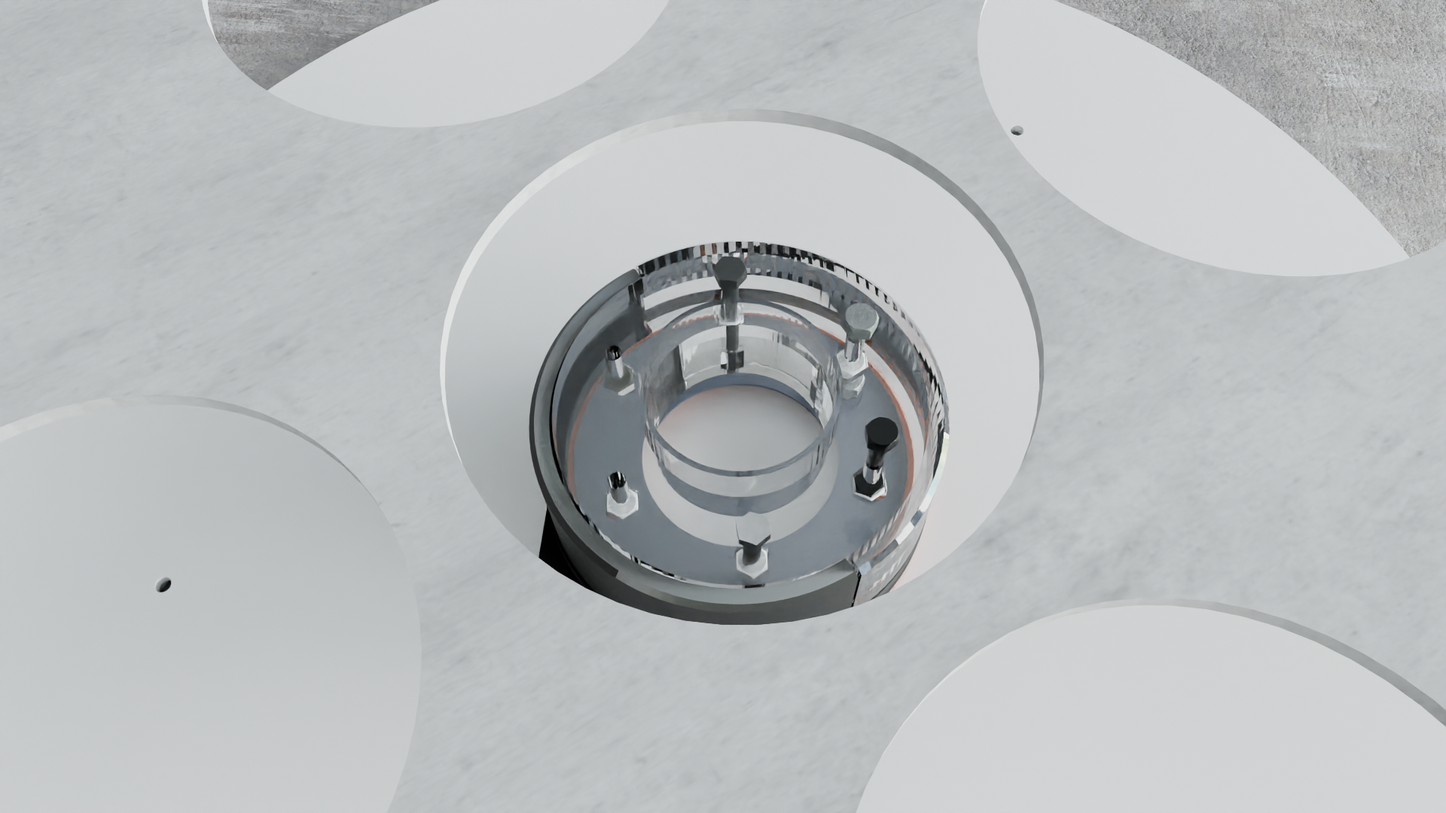bolt: (736, 511, 770, 545), (865, 417, 899, 449), (843, 303, 879, 332), (713, 256, 747, 282)
